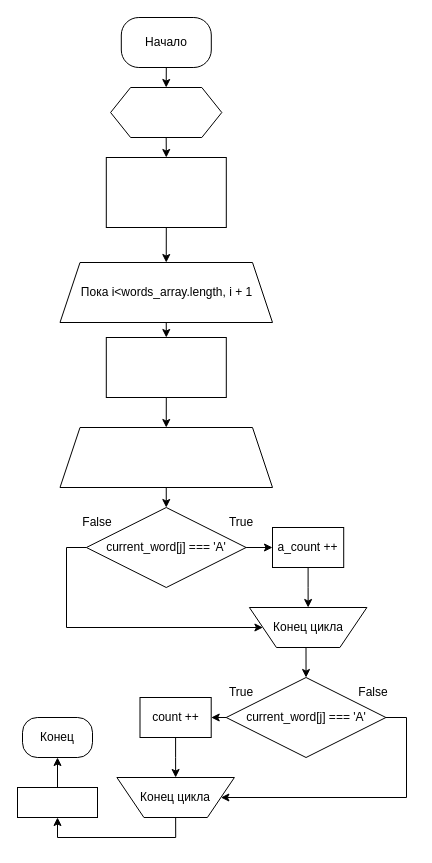
The diagram is 432 pixels wide and 863 high, and some of its shapes have lost their labels. The shapes that lost their labels are listed below. From the top down, each one's centre as x and y in pixels, then its label:
At (x=166, y=112): "Получение inputString".
At (x=165, y=192): "words_array = inputString.split(' ') count = 0".
At (x=165, y=367): "current_word = words_array[i] a_count = 0".
At (x=165, y=457): "Пока j<current_word.length, j + 1".
At (x=57, y=802): "Вывод count".
